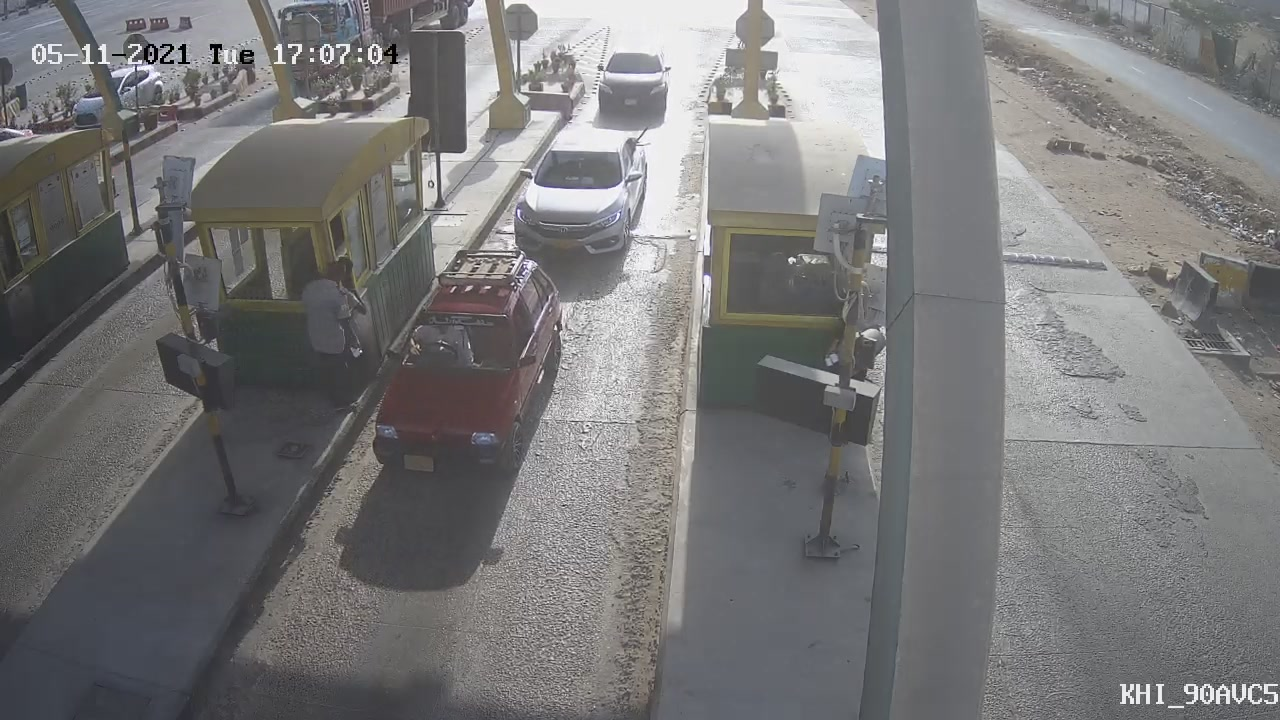F1: (355, 235, 579, 496), (495, 109, 665, 277)
